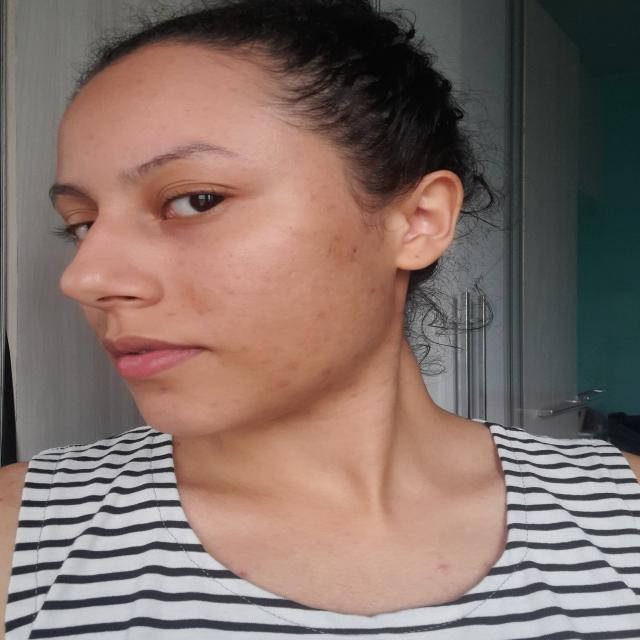Acne: (223, 86, 246, 94), (322, 365, 337, 377), (207, 400, 225, 410), (135, 77, 147, 88), (350, 244, 361, 255), (280, 380, 294, 388), (315, 308, 326, 318), (288, 362, 300, 371), (368, 286, 380, 295), (332, 234, 344, 243), (328, 200, 340, 208), (157, 387, 170, 393), (199, 310, 208, 318), (165, 313, 179, 318), (89, 134, 96, 142), (185, 109, 195, 112)
Blackheads: (68, 273, 105, 286)
Englarged-Pores: (226, 252, 272, 282), (232, 298, 256, 316)
